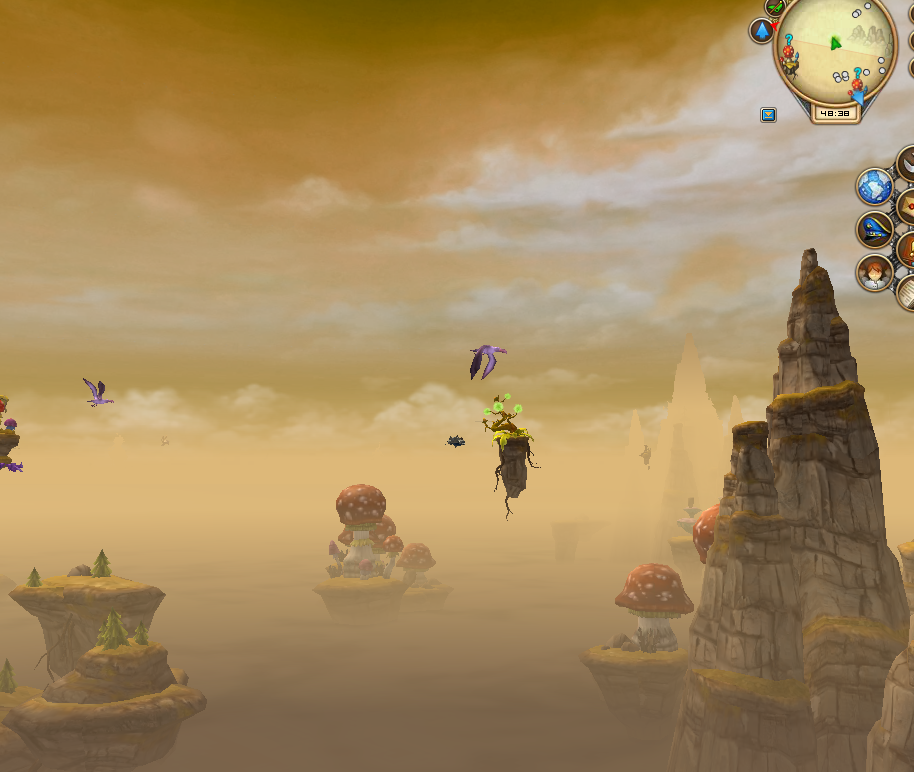dandelion-full: (477, 389, 539, 490)
